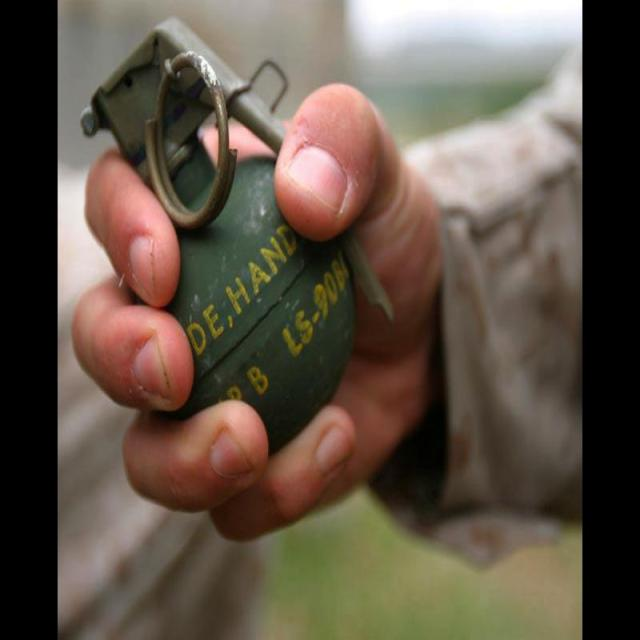grenade: (81, 20, 396, 450)
